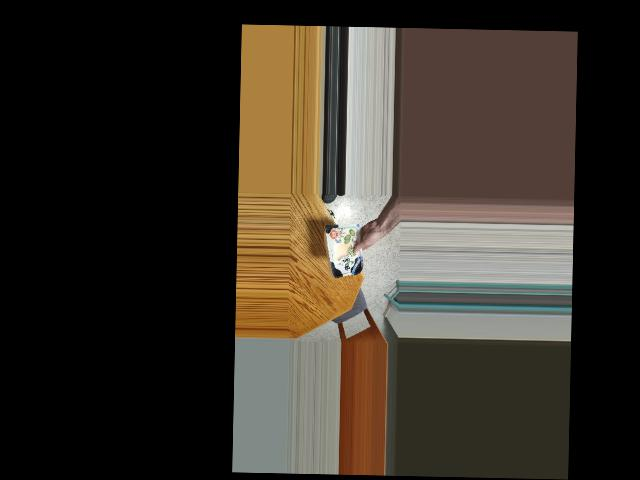cheese: (326, 230, 364, 279)
